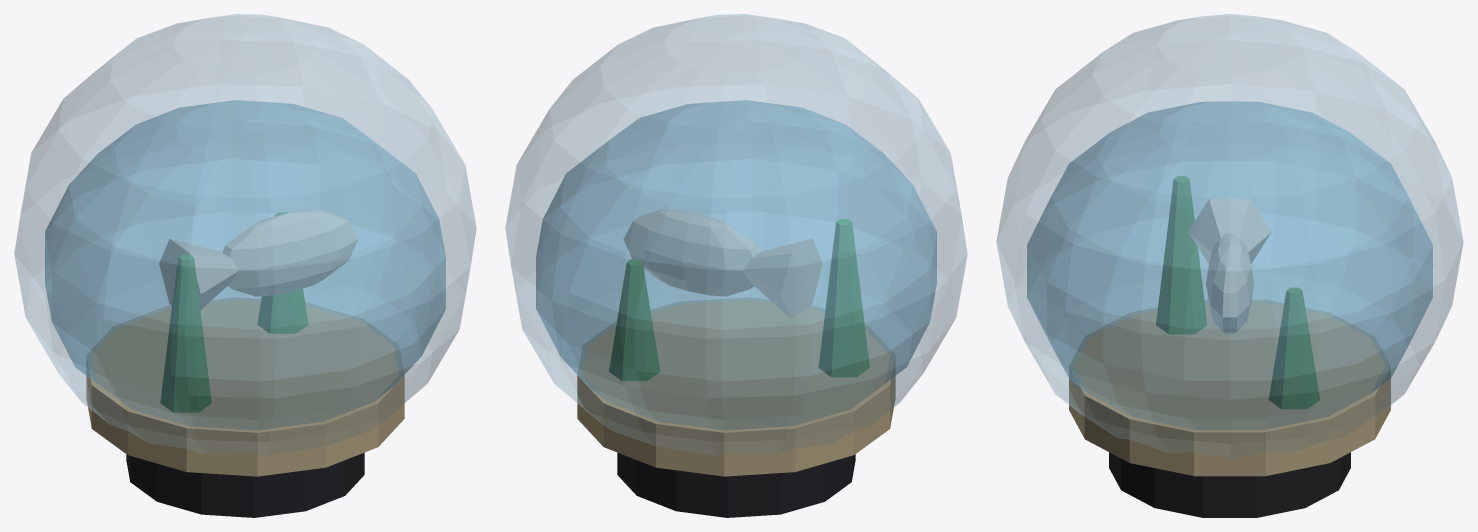
File: fish_bowl.glb
The picture shows the model from 3 angles, left to right: view 1: azimuth 30°, elevation 25°; view 2: azimuth 150°, elevation 25°; view 3: azimuth 270°, elevation 25°; orthographic projection.
Visible parts, largest first — view 1: fish_bowl; view 2: fish_bowl; view 3: fish_bowl.
Boxes of the visible parts, x1,y1,x2,y2 form: fish_bowl: [14, 14, 476, 517]; fish_bowl: [505, 14, 967, 517]; fish_bowl: [996, 14, 1463, 517].
Bounding box in the file's own units: 0.29 × 0.2971 × 0.29.
